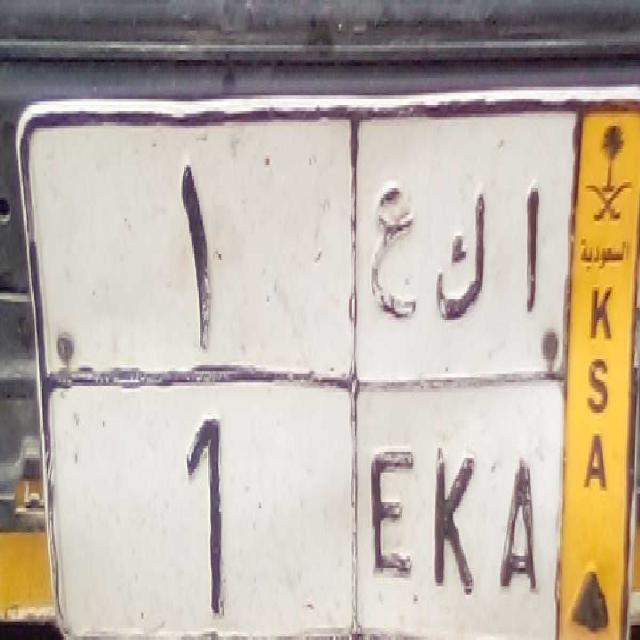license_plate: (43, 380, 561, 640)
